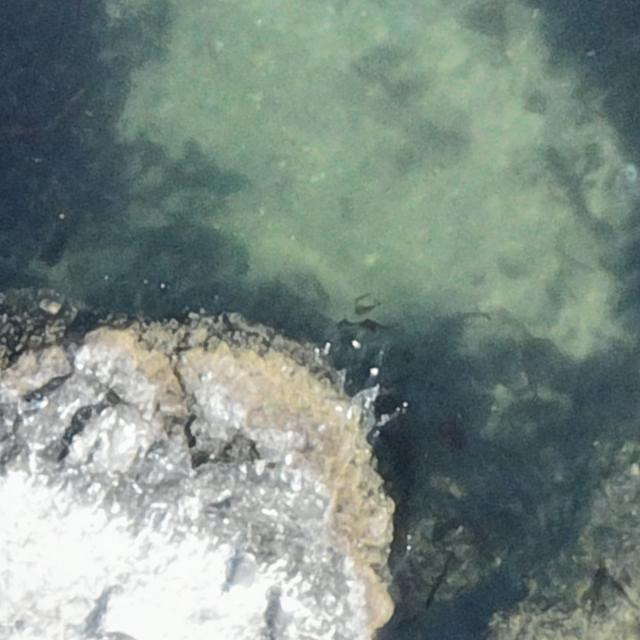umineko: (228, 548, 255, 602), (270, 593, 298, 639)
